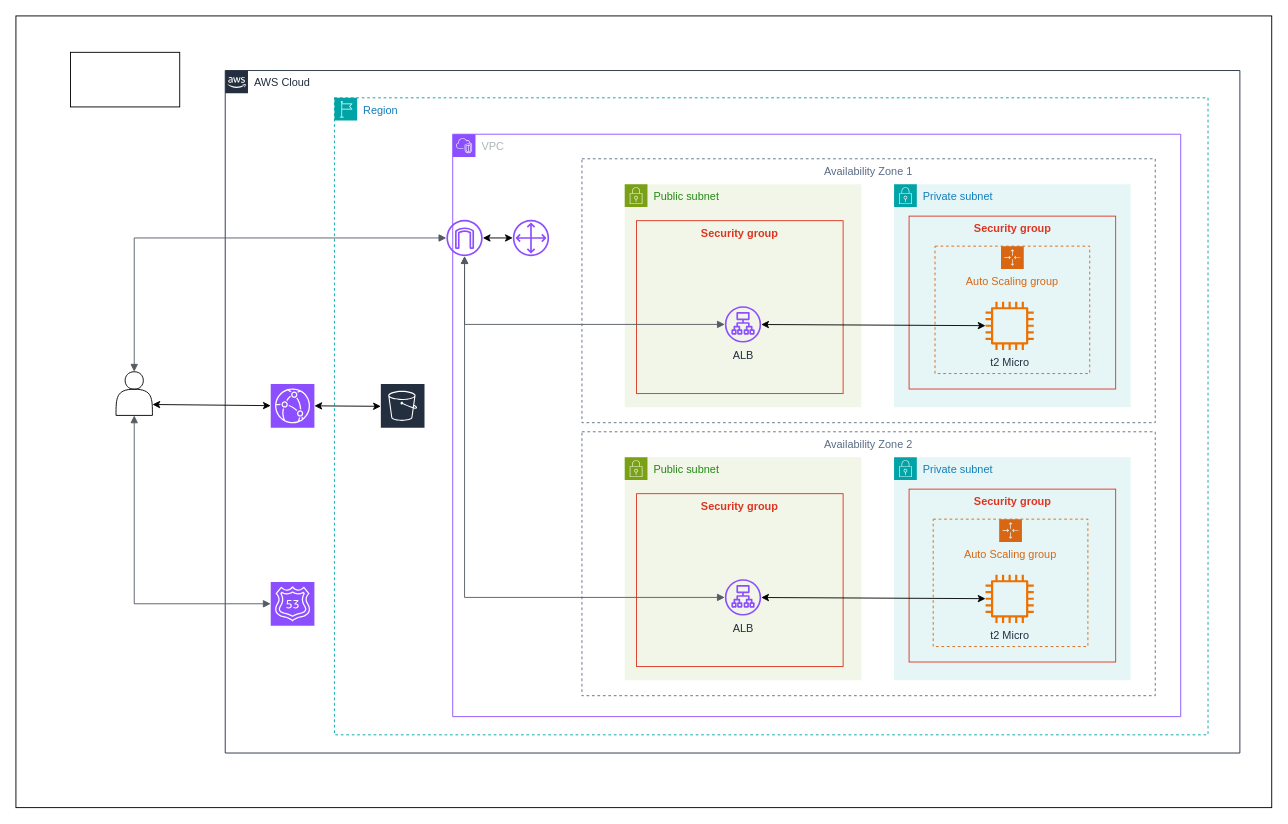
Image size: 1288x824. Some labels were removed from this diagram. Each missing label, with the centre of its shape:
"Amazon S3" belongs at point (402, 416).
"Portfolio" belongs at point (125, 79).
